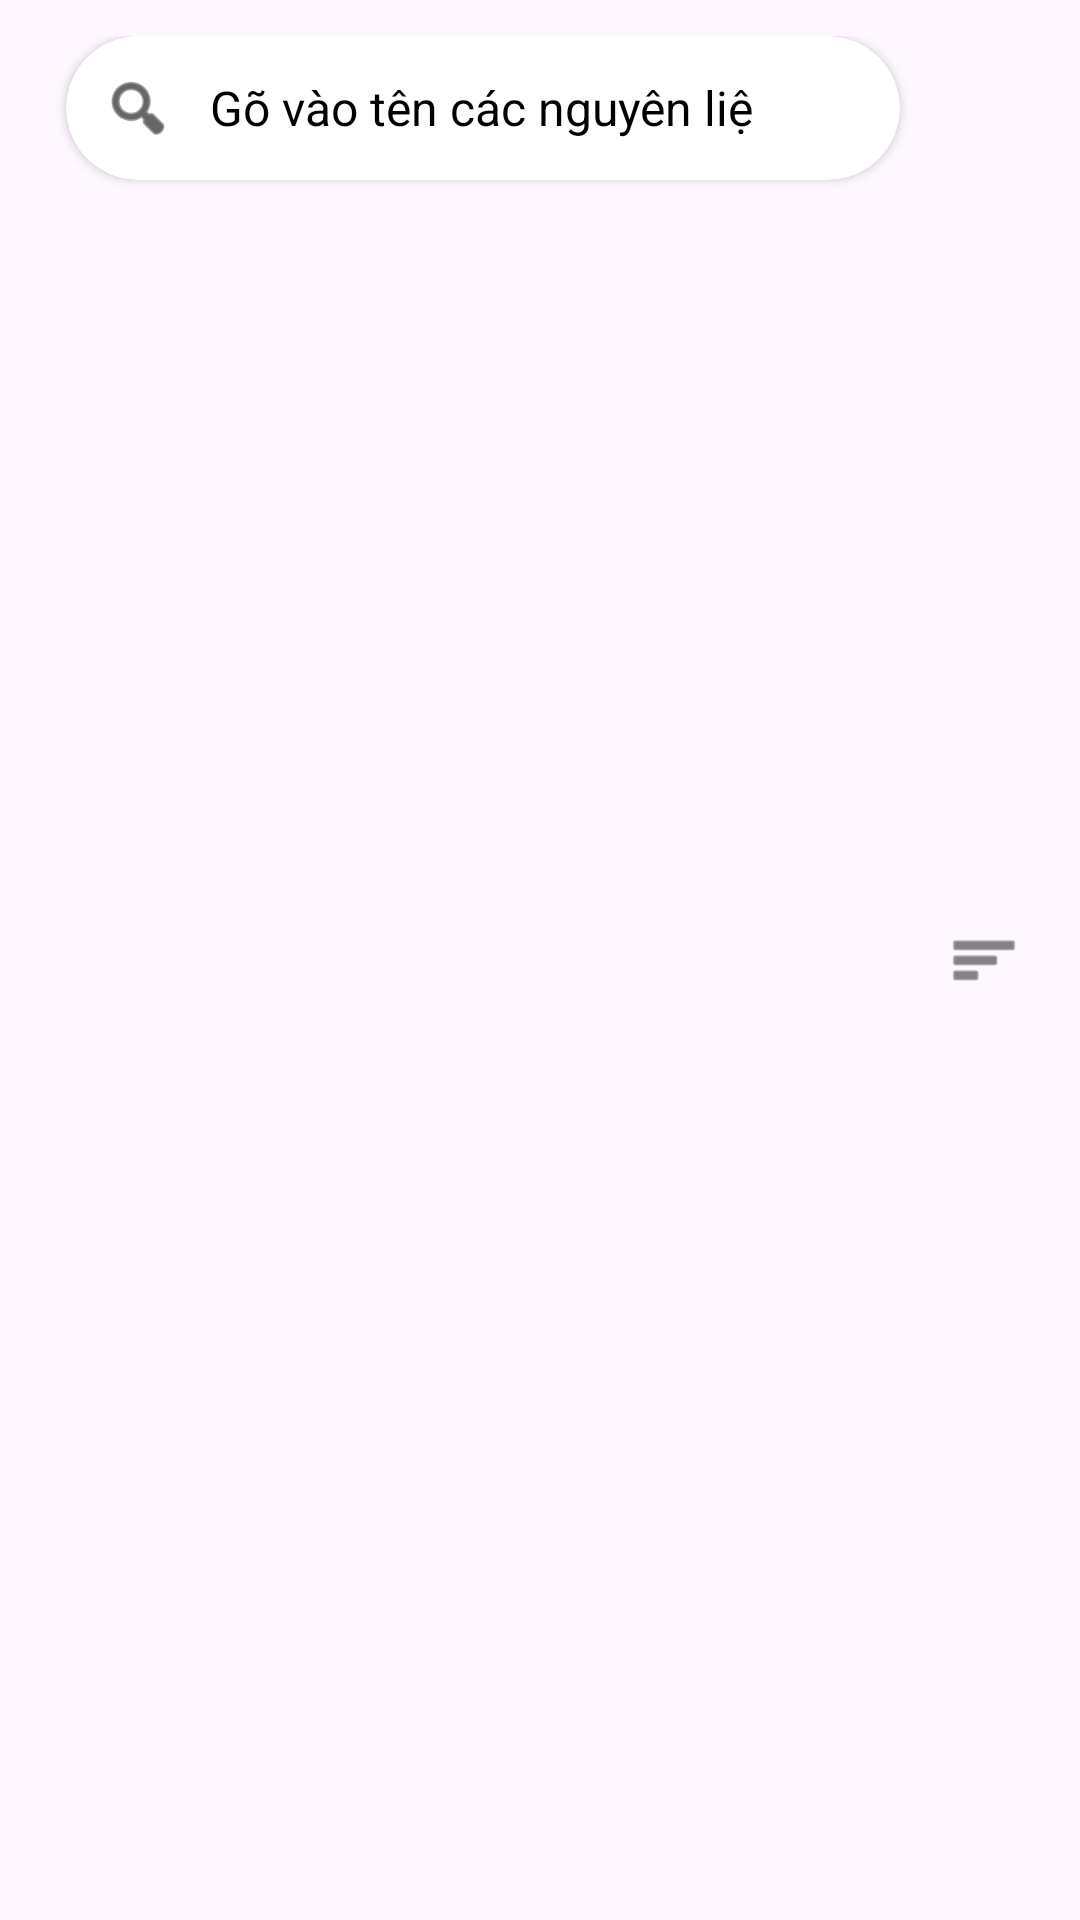

Named icons in this screenshot (1080w x 1920h) and their bounding boxes, (x1=x1, y1=y1, x2=x2, y2=y2):
search: (x1=111, y1=82, x2=165, y2=135)
sort by size: (x1=953, y1=940, x2=1015, y2=981)
